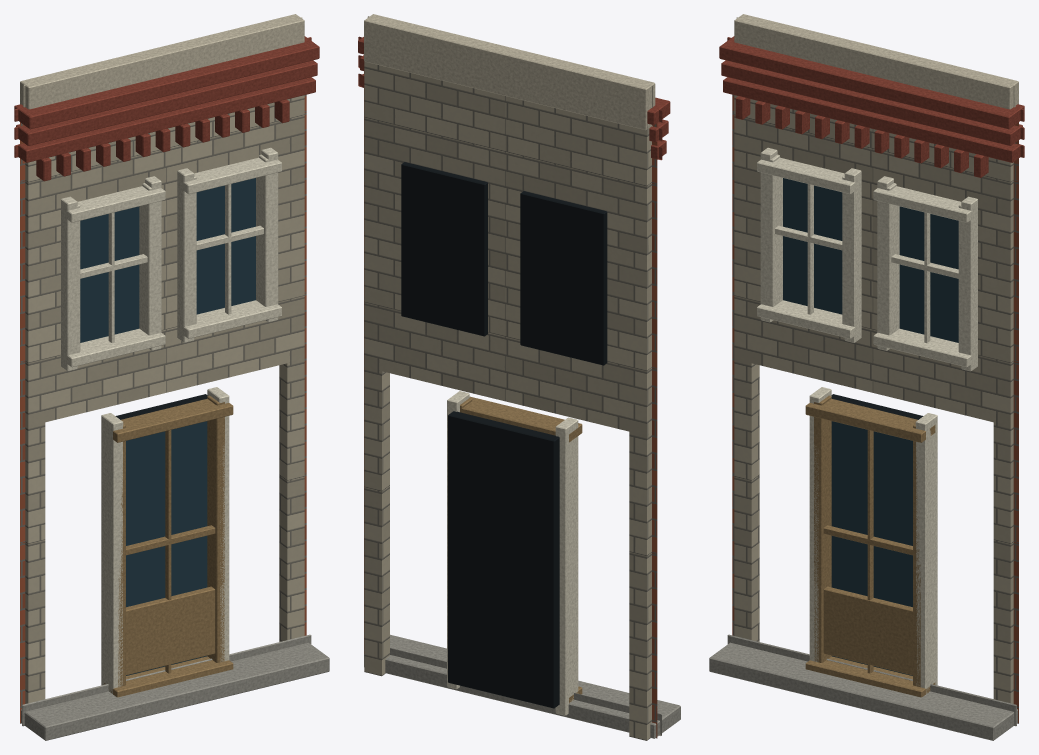
The model's file is CLSTGA14_lod1.glb.
3 renders of one model, left to right at view 1: azimuth 30°, elevation 25°; view 2: azimuth 150°, elevation 25°; view 3: azimuth 330°, elevation 25°, orthographic. The views are drawn at different scales.
Parts seen in each view (by area): view 1: CLSTGA14_FRONT_LOD1; view 2: CLSTGA14_FRONT_LOD1; view 3: CLSTGA14_FRONT_LOD1.
Boxes of the visible parts, x1,y1,x2,y2 form: CLSTGA14_FRONT_LOD1: (14, 14, 329, 740); CLSTGA14_FRONT_LOD1: (358, 14, 680, 740); CLSTGA14_FRONT_LOD1: (709, 14, 1024, 740).
Bounding box in the file's own units: 3.44 × 7.05 × 0.68.
10 materials, 8 textured.
